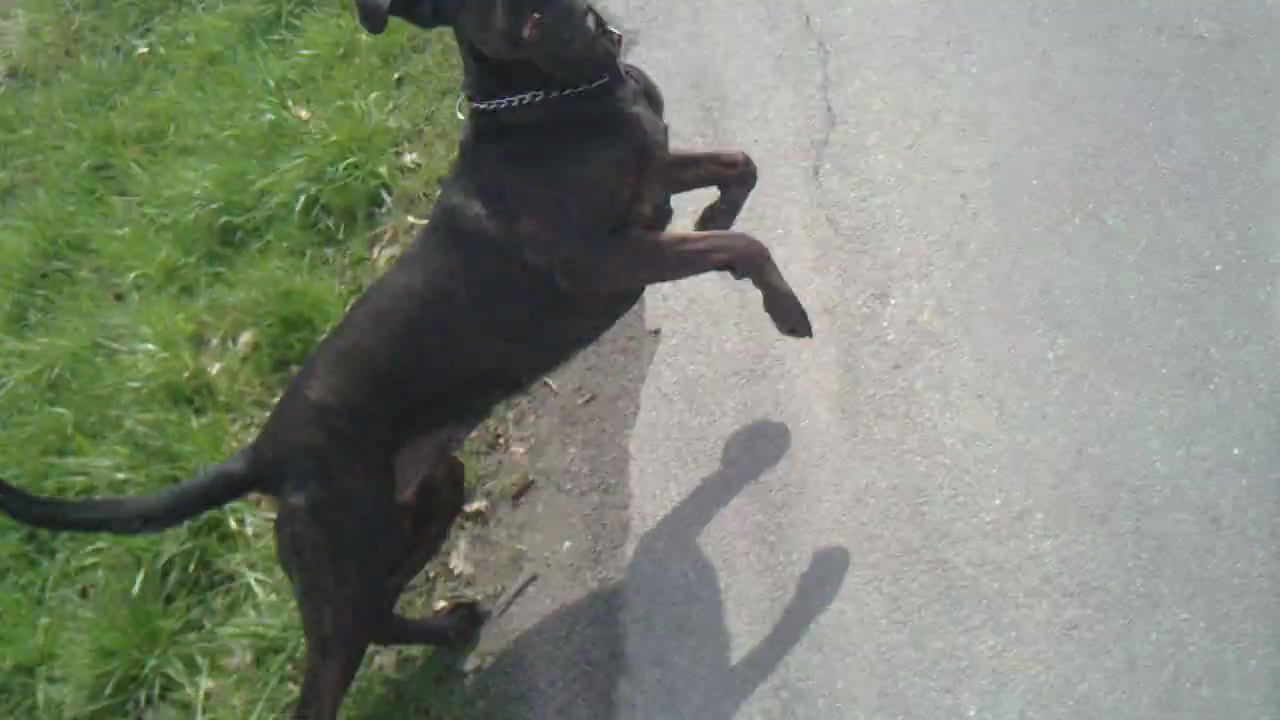dog: (1, 1, 817, 720)
